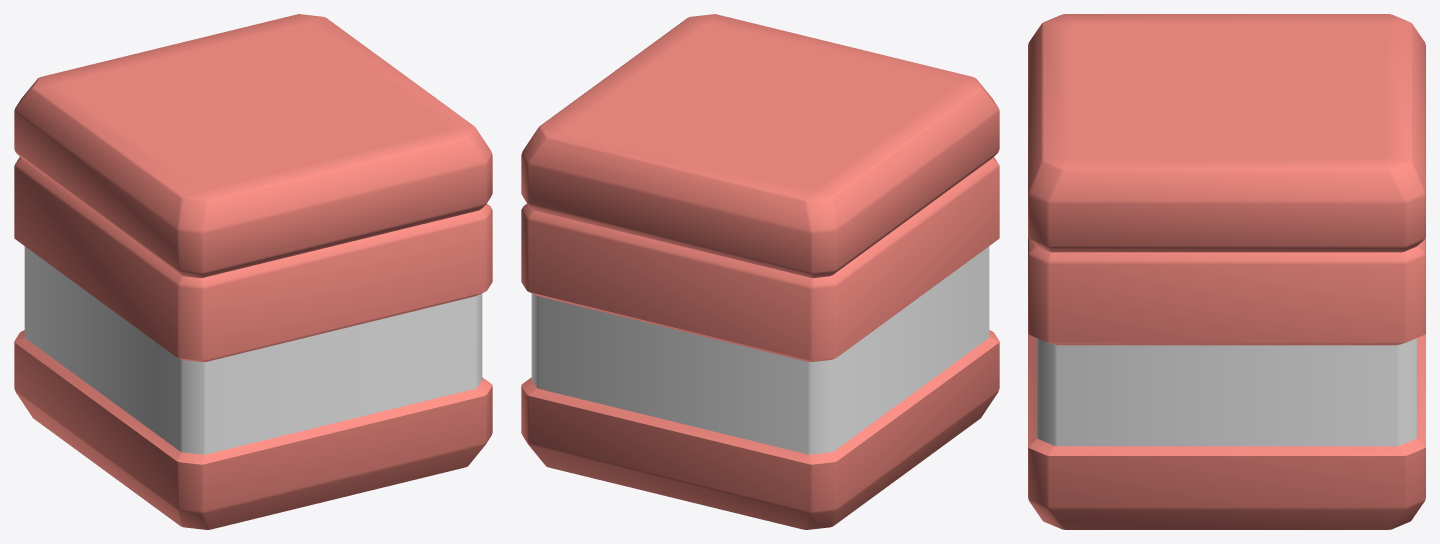
File: 10_Box_red.fbx
3 views of the same model, side by side, from view 1: azimuth 30°, elevation 25°; view 2: azimuth 150°, elevation 25°; view 3: azimuth 270°, elevation 25° (orthographic). The views are drawn at different scales.
Parts seen in each view (by area): view 1: 10_Box_red; view 2: 10_Box_red; view 3: 10_Box_red.
Boxes of the visible parts, box(x1,y1,x2,y2) form: 10_Box_red: box(14, 14, 492, 529); 10_Box_red: box(521, 14, 999, 529); 10_Box_red: box(1028, 14, 1425, 529).
Bounding box in the file's own units: 100 × 100 × 100.
